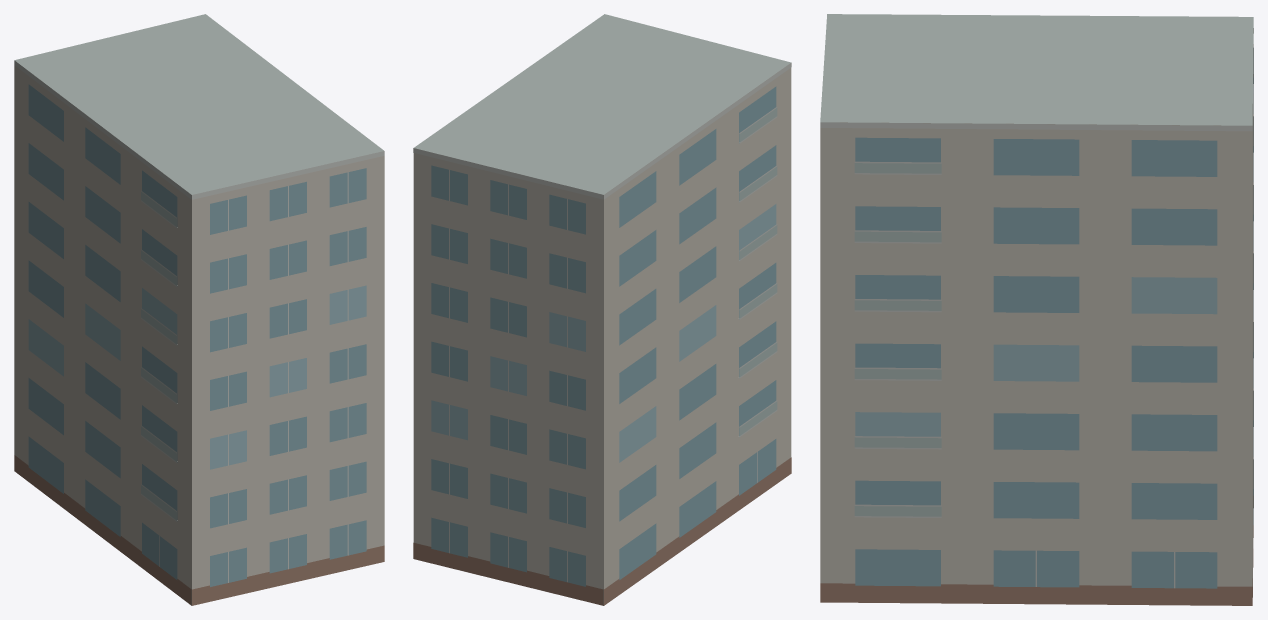
Rendered from survey-upis-32774567.glb.
3 views of the same model, side by side, from view 1: azimuth 30°, elevation 25°; view 2: azimuth 150°, elevation 25°; view 3: azimuth 270°, elevation 25° (orthographic). The views are drawn at different scales.
Parts seen in each view (by area): view 1: survey-upis-32774567.tmp; view 2: survey-upis-32774567.tmp; view 3: survey-upis-32774567.tmp.
Part boxes in pixels (x1,y1,x2,y2): survey-upis-32774567.tmp: (14,14,384,605); survey-upis-32774567.tmp: (413,14,791,605); survey-upis-32774567.tmp: (820,14,1253,605).
Size of the model in its own units: 10.35 by 20.7 by 16.95.
